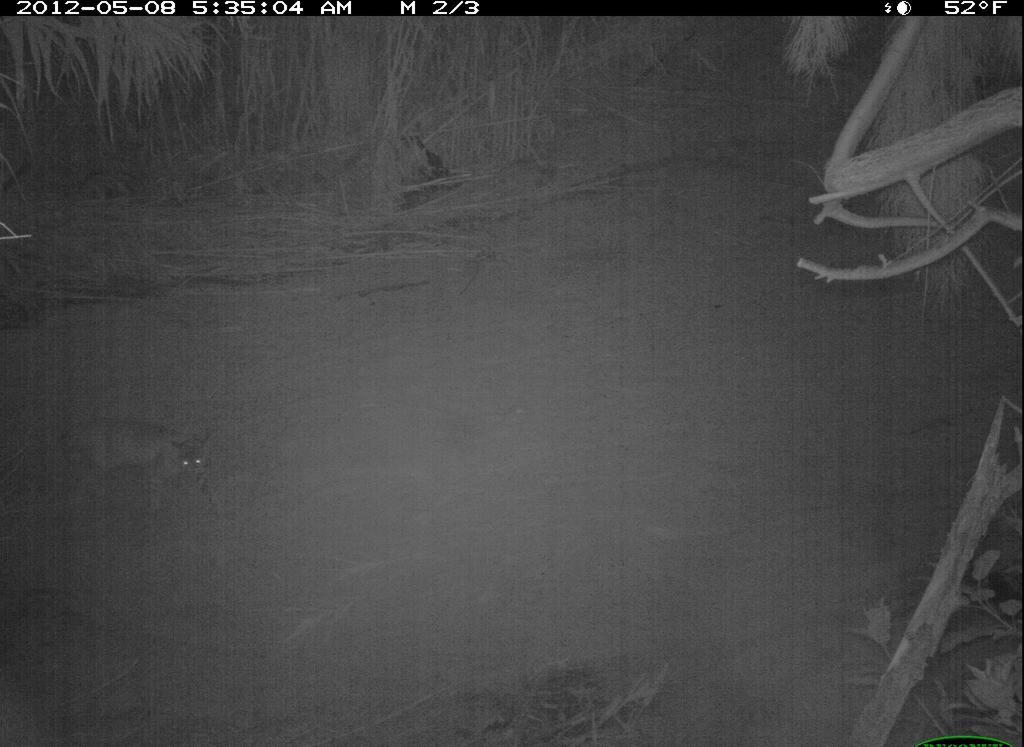bobcat: (42, 403, 222, 525)
